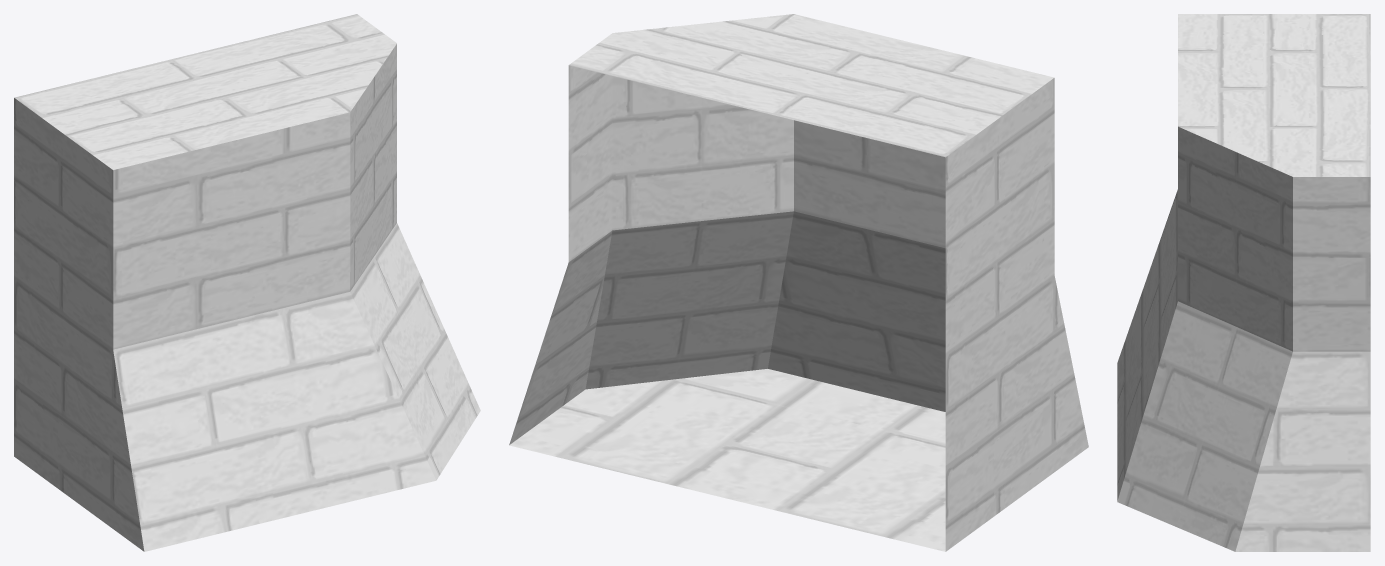
The model's file is castle_type_j.gltf.
3 renders of one model, left to right at view 1: azimuth 30°, elevation 25°; view 2: azimuth 150°, elevation 25°; view 3: azimuth 270°, elevation 25°, orthographic. The views are drawn at different scales.
Visible parts, largest first — view 1: Type_J; view 2: Type_J; view 3: Type_J.
Boxes of the visible parts, left/top/right/bottom form: Type_J: left=14, top=14, right=480, bottom=551; Type_J: left=509, top=14, right=1088, bottom=551; Type_J: left=1117, top=14, right=1370, bottom=551.
Bounding box in the file's own units: 1.16 × 1 × 0.6578.
1 material, 1 textured.
